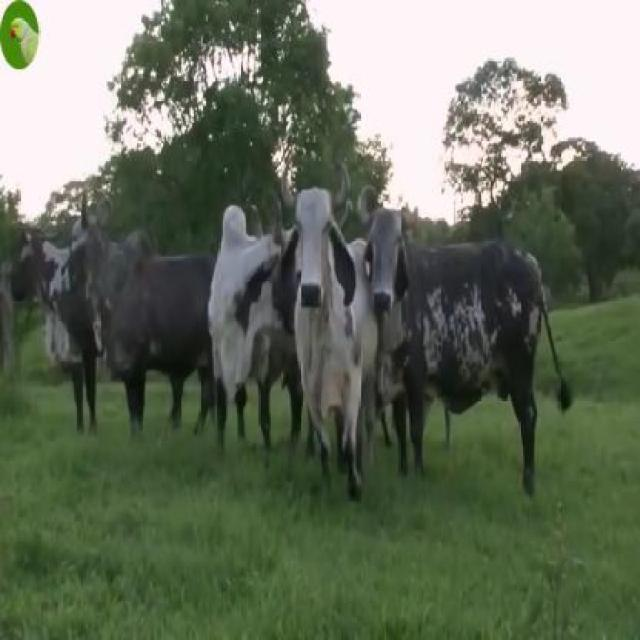Cow: (282, 156, 366, 498)
